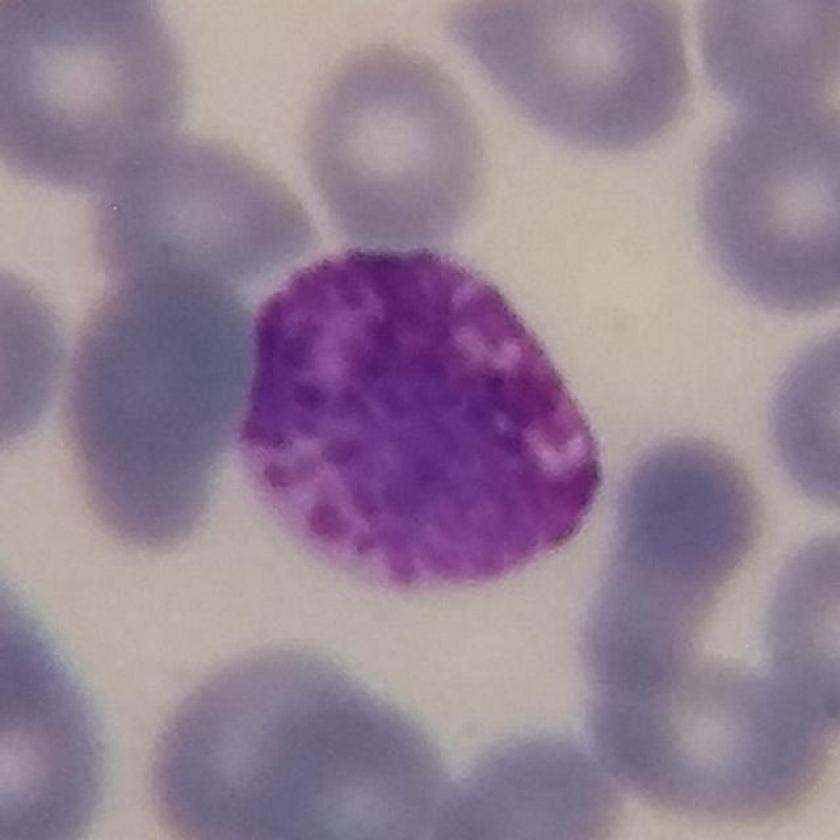basophil: (234, 239, 621, 600)
